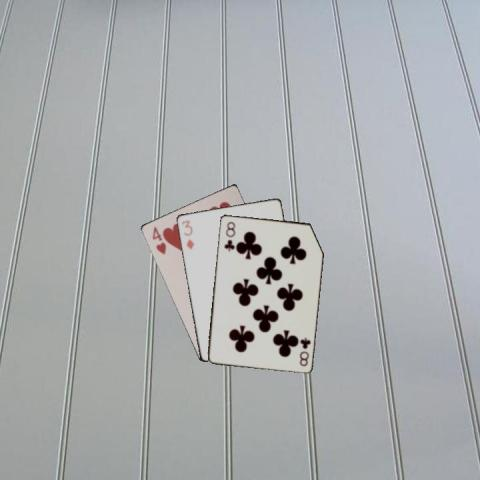3d: (179, 217, 195, 251)
4h: (150, 223, 168, 256)
8c: (221, 219, 236, 252), (297, 335, 312, 367)
